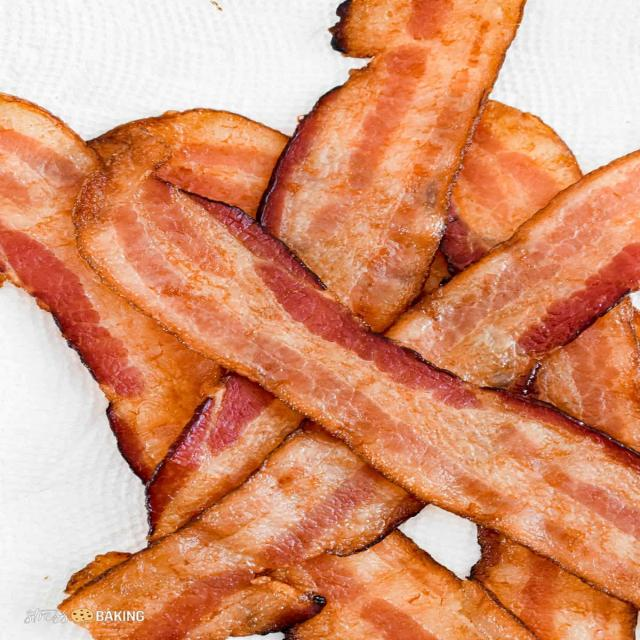Bacon: (75, 138, 639, 602), (261, 0, 524, 331), (0, 95, 221, 480), (60, 422, 424, 640), (386, 152, 639, 389), (270, 530, 538, 640)
